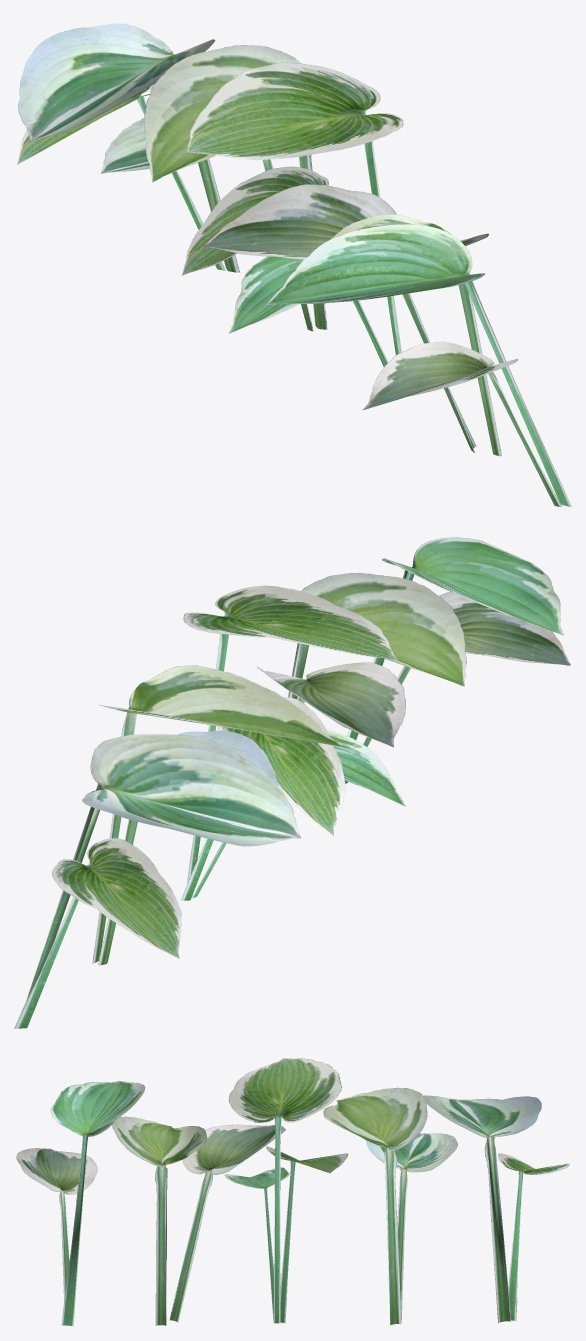
The model's file is plant_small_wg_00_line_05.fbx.
3 views of the same model, one above another, from view 1: azimuth 30°, elevation 25°; view 2: azimuth 150°, elevation 25°; view 3: azimuth 270°, elevation 25° (orthographic). The views are drawn at different scales.
Parts seen in each view (by area): view 1: plant_small_wg_00_line_05; view 2: plant_small_wg_00_line_05; view 3: plant_small_wg_00_line_05.
Boxes of the visible parts, <box> form: plant_small_wg_00_line_05: <box>17,23,571,507</box>; plant_small_wg_00_line_05: <box>14,537,570,1028</box>; plant_small_wg_00_line_05: <box>16,1058,569,1326</box>.
Size of the model in its own units: 38.22 by 43.62 by 102.
1 material, 1 textured.
